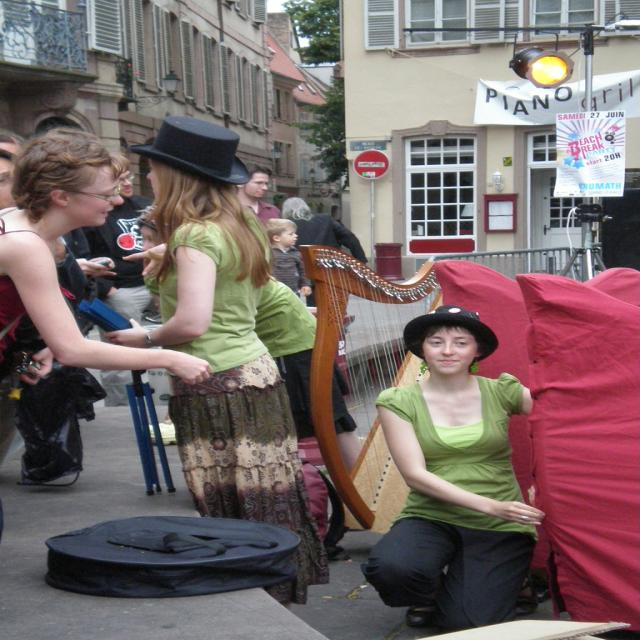harp: (286, 238, 467, 534)
